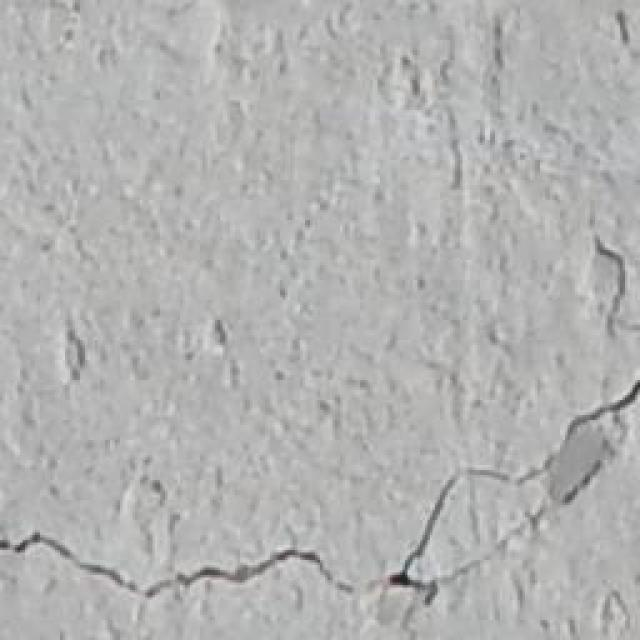concrete-crack: (0, 368, 640, 608)
